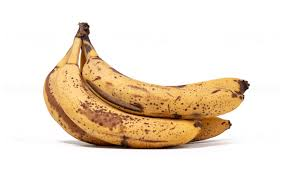looks_defective: (28, 18, 275, 160)
